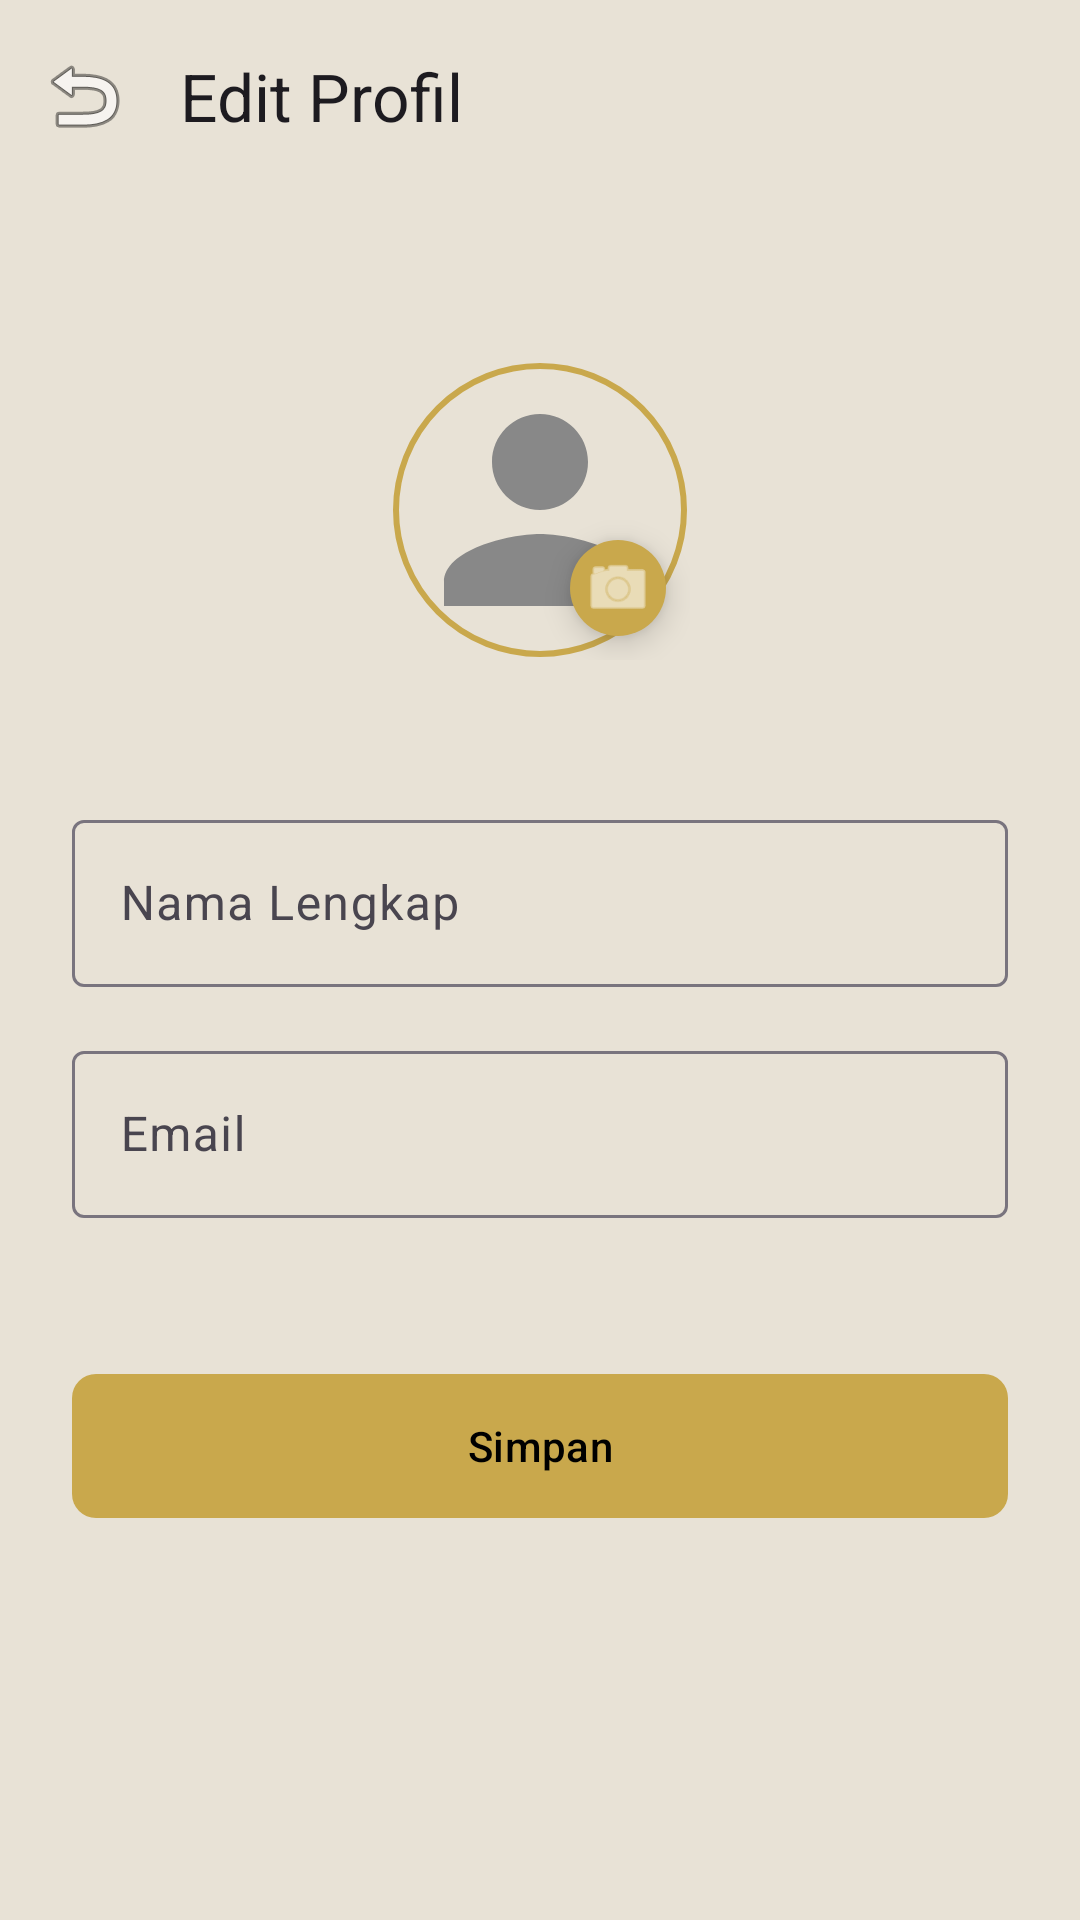

Icons on this 1080 x 1920 Android screen, each with the point to tap as (x=x, y=y):
camera: (x=616, y=586)
